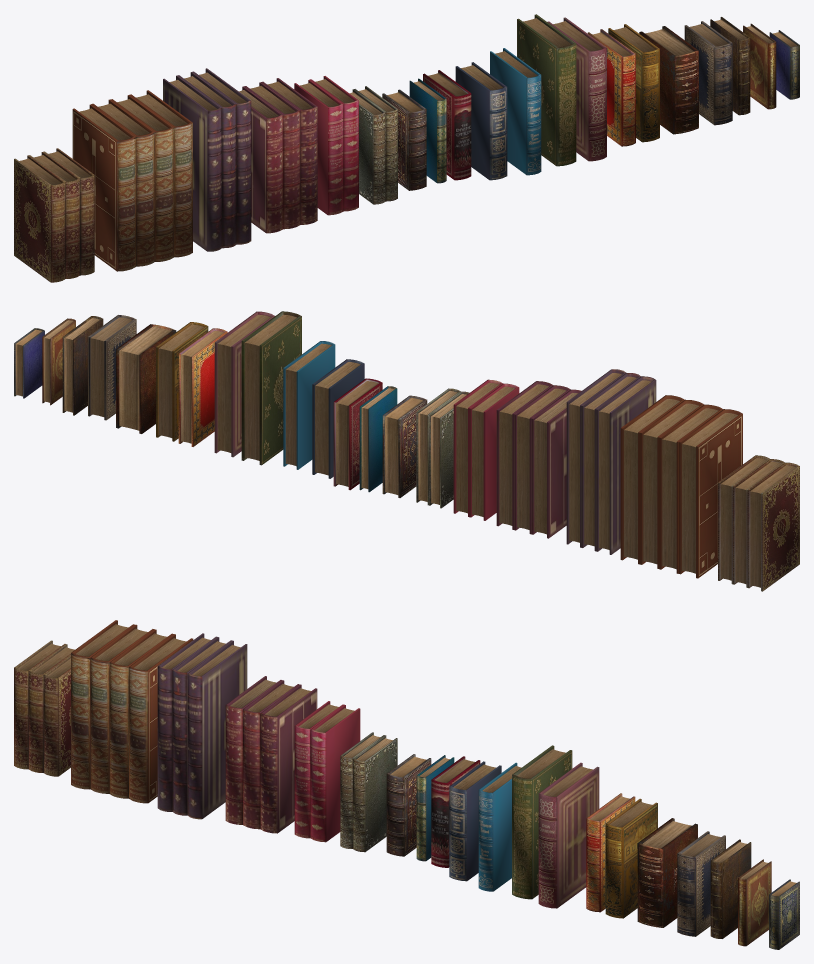
3 renders of one model, top to bottom at view 1: azimuth 30°, elevation 25°; view 2: azimuth 150°, elevation 25°; view 3: azimuth 330°, elevation 25°, orthographic.
Parts seen in each view (by area): view 1: Shelley, Waverley, Hawthorne, ContesMorau, EarthlyParadise, LawrenceStern, TreasureIsland, Elias, Sevantes, WutheringHeights, LegendeDerSciligru, HistoryOfLace (+8 smaller); view 2: Shelley, Waverley, Hawthorne, ContesMorau, EarthlyParadise, LawrenceStern, Elias, LegendeDerSciligru, TreasureIsland, Sevantes, IdyllsOfThe Mins, LeatherBack (+8 smaller); view 3: Shelley, Waverley, Hawthorne, ContesMorau, LawrenceStern, Sevantes, Elias, EarthlyParadise, LegendeDerSciligru, Burns, TreasureIsland, WutheringHeights (+8 smaller).
Boxes of the visible parts, bbox=[...] form: Shelley: bbox=[72, 90, 192, 271]; Waverley: bbox=[163, 68, 251, 251]; Hawthorne: bbox=[239, 78, 317, 233]; ContesMorau: bbox=[14, 148, 94, 282]; EarthlyParadise: bbox=[517, 14, 576, 166]; LawrenceStern: bbox=[294, 76, 358, 215]; TreasureIsland: bbox=[490, 48, 541, 175]; Elias: bbox=[350, 86, 397, 204]; Sevantes: bbox=[547, 17, 606, 161]; WutheringHeights: bbox=[455, 62, 507, 180]; LegendeDerSciligru: bbox=[639, 26, 698, 134]; HistoryOfLace: bbox=[684, 21, 732, 125]; Shelley: bbox=[620, 395, 742, 578]; Waverley: bbox=[566, 369, 656, 554]; Hawthorne: bbox=[496, 381, 581, 538]; ContesMorau: bbox=[718, 455, 799, 591]; EarthlyParadise: bbox=[241, 311, 301, 465]; LawrenceStern: bbox=[453, 379, 519, 520]; Elias: bbox=[416, 388, 469, 508]; LegendeDerSciligru: bbox=[116, 324, 176, 433]; TreasureIsland: bbox=[283, 341, 335, 469]; Sevantes: bbox=[214, 311, 274, 457]; IdyllsOfThe Mins: bbox=[178, 328, 227, 446]; LeatherBack: bbox=[382, 395, 427, 497]; Shelley: bbox=[71, 620, 193, 803]; Waverley: bbox=[157, 633, 247, 819]; Hawthorne: bbox=[225, 676, 317, 833]; ContesMorau: bbox=[14, 640, 74, 776]; LawrenceStern: bbox=[294, 701, 360, 842]; Sevantes: bbox=[538, 762, 599, 908]; Elias: bbox=[340, 732, 397, 852]; EarthlyParadise: bbox=[512, 745, 572, 899]; LegendeDerSciligru: bbox=[637, 818, 697, 927]; Burns: bbox=[605, 798, 657, 918]; TreasureIsland: bbox=[478, 762, 521, 891]; WutheringHeights: bbox=[449, 761, 501, 881].
Bounding box in the file's own units: 1.72 × 0.307 × 0.2024.
2 materials, 2 textured.
